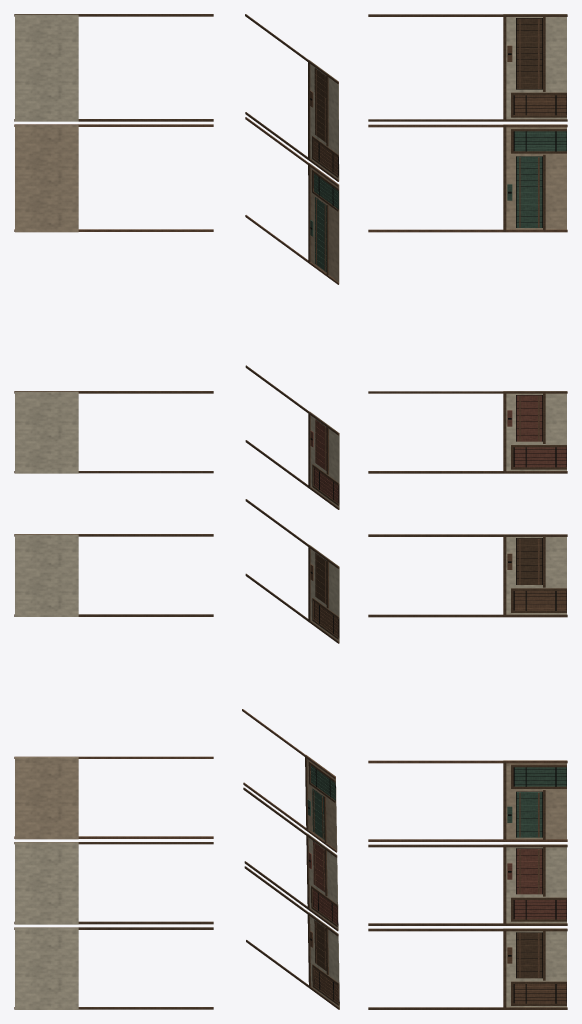
File: tenancies_overlay_east_0a73564b.obj
The picture shows the model from 3 angles, left to right: view 1: azimuth 90°, elevation 25°; view 2: azimuth 210°, elevation 25°; view 3: azimuth 270°, elevation 25°; orthographic projection. The views are drawn at different scales.
Bounding box in the file's own units: 0.2547 × 42.15 × 7.65.
Materials: 8 (6 with a texture image).
